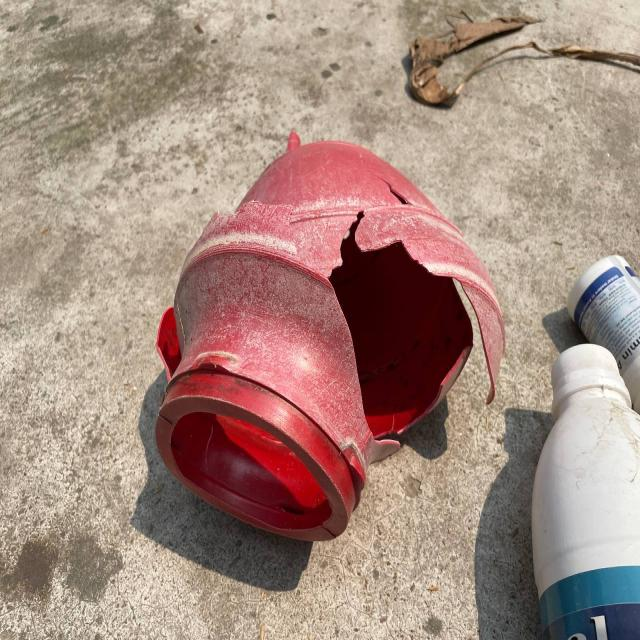Plastics: (140, 118, 506, 533), (532, 247, 640, 640)
